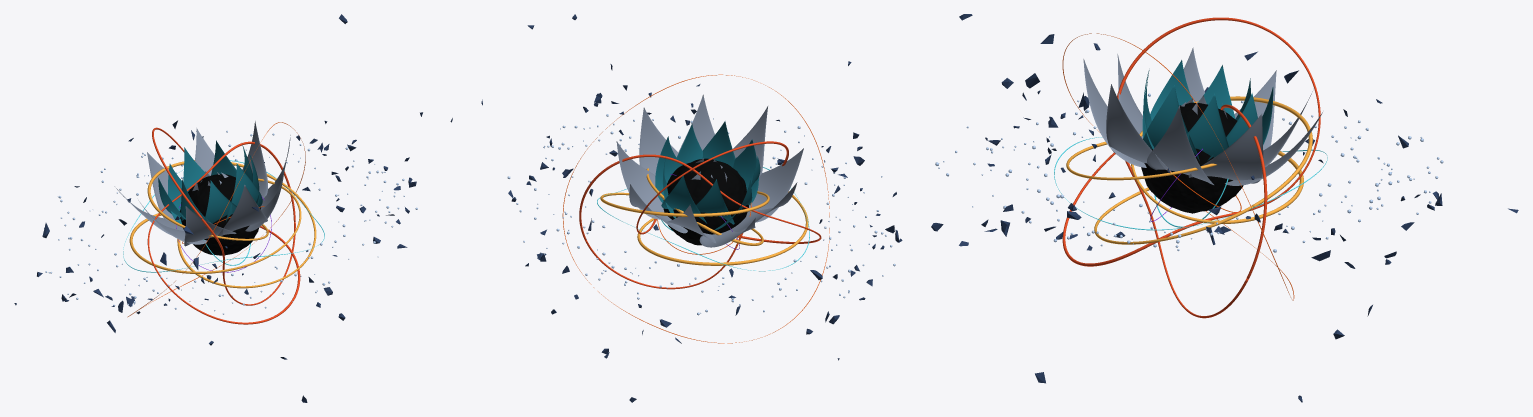
The model's file is singularity_bloom.obj.
3 renders of one model, left to right at view 1: azimuth 30°, elevation 25°; view 2: azimuth 150°, elevation 25°; view 3: azimuth 270°, elevation 25°, orthographic. The views are drawn at different scales.
Parts seen in each view (by area): view 1: Knot.Gold_Metal.Gold, Singularity.Core_Core.Chrome, Knot.Copper_Metal.Copper, Petal.0.06_Metal.Petal, Dust.Belt_Glow.Dust, Petal.0.05_Metal.Petal, Petal.0.00_Metal.Petal, Petal.1.05_Metal.Iridescent, Petal.1.06_Metal.Iridescent, Petal.0.02_Metal.Petal, Petal.0.01_Metal.Petal, Petal.1.01_Metal.Iridescent (+4 smaller); view 2: Singularity.Core_Core.Chrome, Knot.Copper_Metal.Copper, Knot.Gold_Metal.Gold, Petal.0.05_Metal.Petal, Petal.0.00_Metal.Petal, Petal.0.08_Metal.Petal, Dust.Belt_Glow.Dust, Petal.1.06_Metal.Iridescent, Petal.1.05_Metal.Iridescent, Filament.1_Glow.Amber, Petal.0.06_Metal.Petal, Petal.0.07_Metal.Petal (+8 smaller); view 3: Singularity.Core_Core.Chrome, Knot.Copper_Metal.Copper, Knot.Gold_Metal.Gold, Petal.0.00_Metal.Petal, Petal.0.08_Metal.Petal, Petal.0.07_Metal.Petal, Petal.1.08_Metal.Iridescent, Dust.Belt_Glow.Dust, Petal.1.07_Metal.Iridescent, Petal.0.06_Metal.Petal, Petal.1.04_Metal.Iridescent, Petal.0.05_Metal.Petal (+6 smaller).
Boxes of the visible parts, box(x1,y1,x2,y2) form: Knot.Gold_Metal.Gold: box(129, 160, 316, 288); Singularity.Core_Core.Chrome: box(179, 174, 260, 255); Knot.Copper_Metal.Copper: box(147, 127, 300, 324); Petal.0.06_Metal.Petal: box(217, 185, 267, 236); Dust.Belt_Glow.Dust: box(44, 130, 417, 314); Petal.0.05_Metal.Petal: box(184, 206, 236, 246); Petal.0.00_Metal.Petal: box(242, 121, 267, 198); Petal.1.05_Metal.Iridescent: box(204, 180, 236, 223); Petal.1.06_Metal.Iridescent: box(226, 163, 262, 221); Petal.0.02_Metal.Petal: box(147, 152, 175, 221); Petal.0.01_Metal.Petal: box(195, 128, 214, 175); Petal.1.01_Metal.Iridescent: box(183, 147, 205, 187); Singularity.Core_Core.Chrome: box(663, 158, 748, 245); Knot.Copper_Metal.Copper: box(579, 141, 821, 289); Knot.Gold_Metal.Gold: box(600, 168, 808, 265); Petal.0.05_Metal.Petal: box(749, 148, 803, 222); Petal.0.00_Metal.Petal: box(616, 141, 664, 219); Petal.0.08_Metal.Petal: box(639, 107, 678, 175); Dust.Belt_Glow.Dust: box(507, 114, 896, 315); Petal.1.06_Metal.Iridescent: box(702, 121, 735, 167); Petal.1.05_Metal.Iridescent: box(733, 139, 758, 205); Filament.1_Glow.Amber: box(562, 74, 829, 343); Petal.0.06_Metal.Petal: box(733, 106, 767, 176); Petal.0.07_Metal.Petal: box(678, 94, 714, 153); Singularity.Core_Core.Chrome: box(1141, 102, 1243, 213); Knot.Copper_Metal.Copper: box(1062, 17, 1320, 318); Knot.Gold_Metal.Gold: box(1066, 96, 1312, 244); Petal.0.00_Metal.Petal: box(1188, 113, 1263, 183); Petal.0.08_Metal.Petal: box(1147, 105, 1213, 184); Petal.0.07_Metal.Petal: box(1106, 84, 1171, 172); Petal.1.08_Metal.Iridescent: box(1186, 93, 1228, 157); Dust.Belt_Glow.Dust: box(935, 93, 1443, 252); Petal.1.07_Metal.Iridescent: box(1143, 85, 1199, 160); Petal.0.06_Metal.Petal: box(1083, 59, 1146, 167); Petal.1.04_Metal.Iridescent: box(1150, 60, 1193, 120); Petal.0.05_Metal.Petal: box(1117, 54, 1142, 138).
Bounding box in the file's own units: 10.62 × 8.61 × 10.74.
